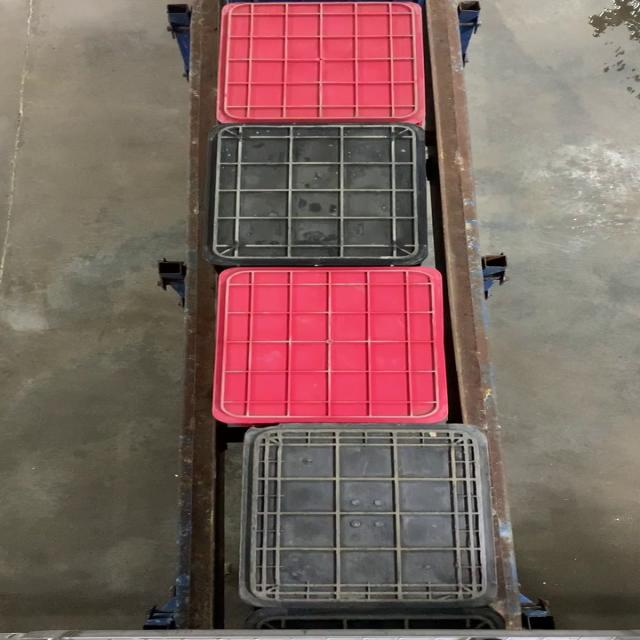Box: (238, 425, 502, 605), (212, 267, 449, 423), (207, 125, 428, 265), (219, 2, 423, 124)
